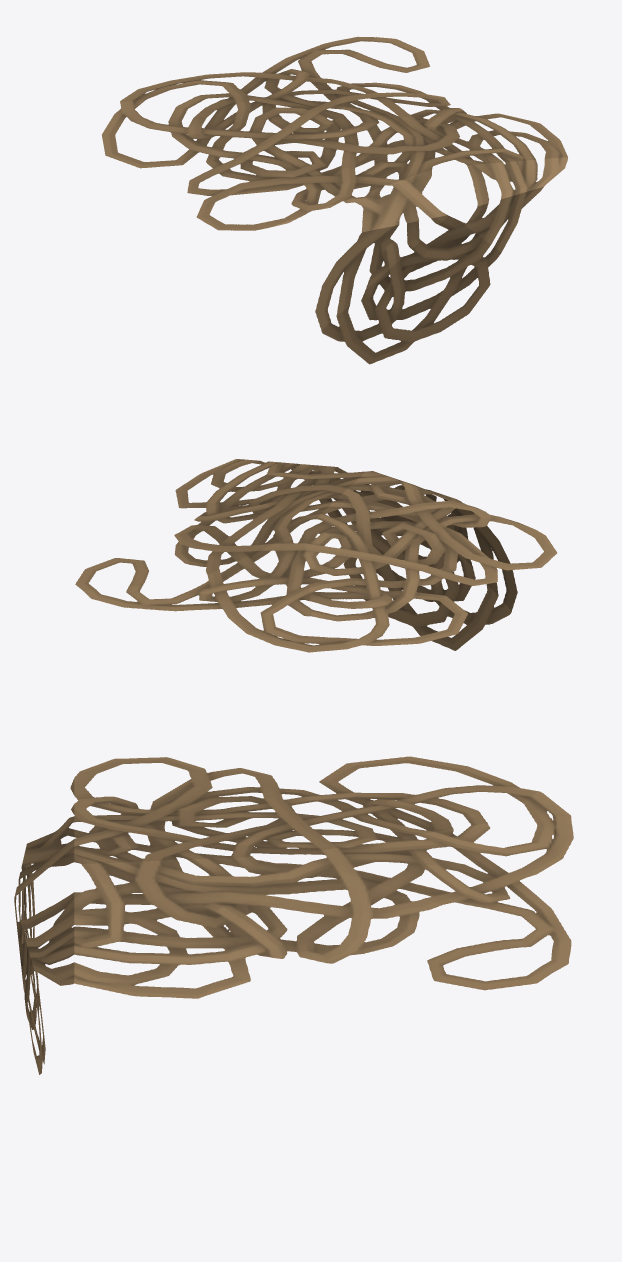
Rendered from SM_Prop_Ropes_04.fbx.
3 renders of one model, top to bottom at view 1: azimuth 30°, elevation 25°; view 2: azimuth 150°, elevation 25°; view 3: azimuth 270°, elevation 25°, orthographic. The views are drawn at different scales.
Visible parts, largest first — view 1: SM_Prop_Ropes_04; view 2: SM_Prop_Ropes_04; view 3: SM_Prop_Ropes_04.
Boxes of the visible parts, <box> form: SM_Prop_Ropes_04: <box>102,36,567,364</box>; SM_Prop_Ropes_04: <box>75,459,557,652</box>; SM_Prop_Ropes_04: <box>14,756,573,1074</box>.
Size of the model in its own units: 148 by 70.7 by 139.
